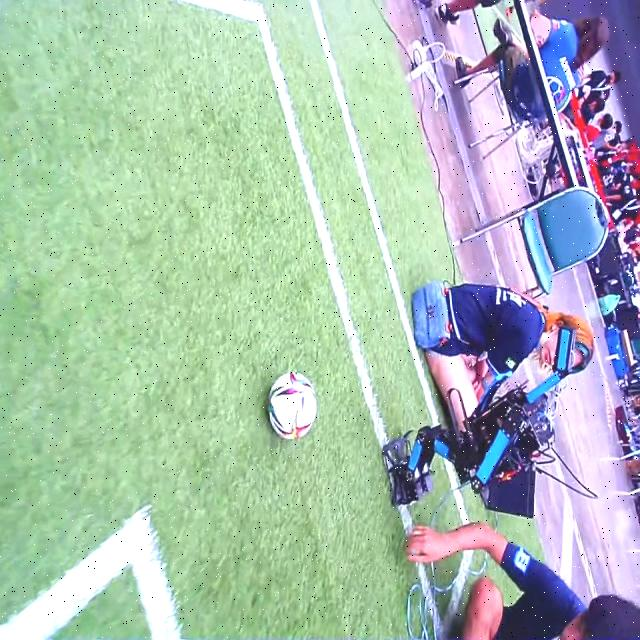ball: (268, 372, 316, 442)
